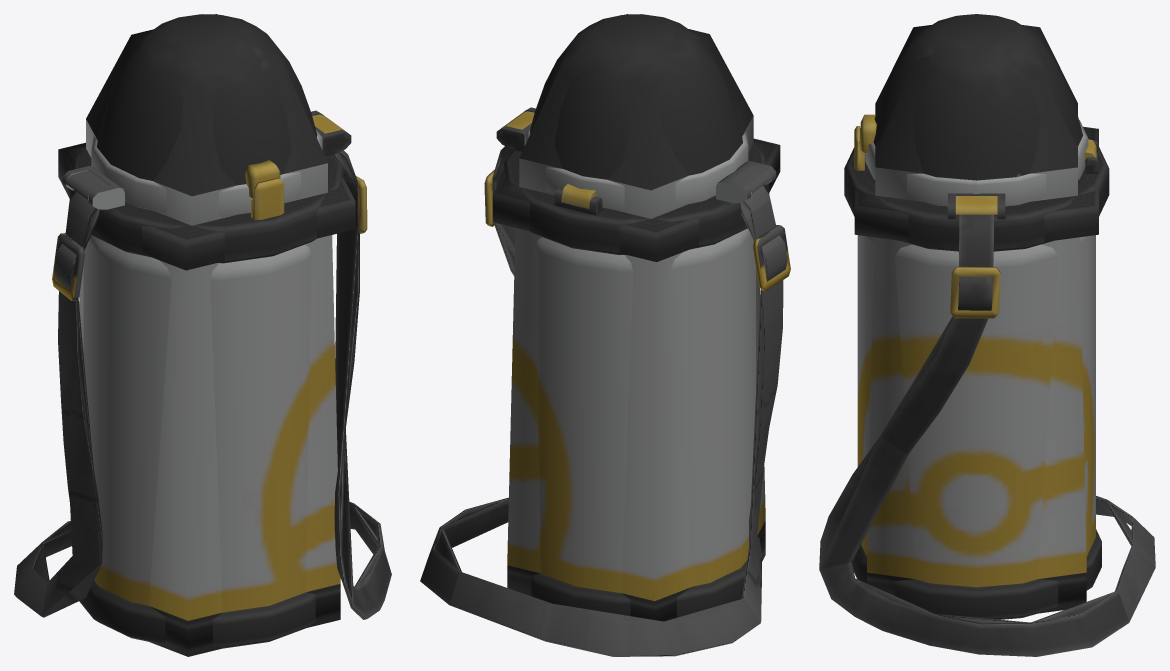
The model's file is pi_waterbottle04_02.gltf.
3 renders of one model, left to right at view 1: azimuth 30°, elevation 25°; view 2: azimuth 150°, elevation 25°; view 3: azimuth 270°, elevation 25°, orthographic. The views are drawn at different scales.
Parts seen in each view (by area): view 1: um_pi_waterbottle04_02_model_lod0Shape:pi_waterbottle04_02_b, um_pi_waterbottle04_02_model_lod2Shape:pi_waterbottle04_02_b, um_pi_waterbottle04_02_model_lod1Shape:pi_waterbottle04_02_b; view 2: um_pi_waterbottle04_02_model_lod0Shape:pi_waterbottle04_02_b, um_pi_waterbottle04_02_model_lod2Shape:pi_waterbottle04_02_b, um_pi_waterbottle04_02_model_lod1Shape:pi_waterbottle04_02_b; view 3: um_pi_waterbottle04_02_model_lod0Shape:pi_waterbottle04_02_b, um_pi_waterbottle04_02_model_lod2Shape:pi_waterbottle04_02_b, um_pi_waterbottle04_02_model_lod1Shape:pi_waterbottle04_02_b.
Part boxes in pixels (x1,y1,x2,y2): um_pi_waterbottle04_02_model_lod0Shape:pi_waterbottle04_02_b: (14, 14, 391, 648); um_pi_waterbottle04_02_model_lod2Shape:pi_waterbottle04_02_b: (34, 14, 382, 656); um_pi_waterbottle04_02_model_lod1Shape:pi_waterbottle04_02_b: (32, 138, 384, 616); um_pi_waterbottle04_02_model_lod0Shape:pi_waterbottle04_02_b: (420, 14, 790, 656); um_pi_waterbottle04_02_model_lod2Shape:pi_waterbottle04_02_b: (436, 14, 780, 641); um_pi_waterbottle04_02_model_lod1Shape:pi_waterbottle04_02_b: (422, 135, 784, 656); um_pi_waterbottle04_02_model_lod0Shape:pi_waterbottle04_02_b: (819, 14, 1154, 656); um_pi_waterbottle04_02_model_lod2Shape:pi_waterbottle04_02_b: (819, 25, 1155, 623); um_pi_waterbottle04_02_model_lod1Shape:pi_waterbottle04_02_b: (820, 153, 1155, 656).
Bounding box in the file's own units: 0.2077 × 0.3412 × 0.1912.
1 material, 1 textured.
